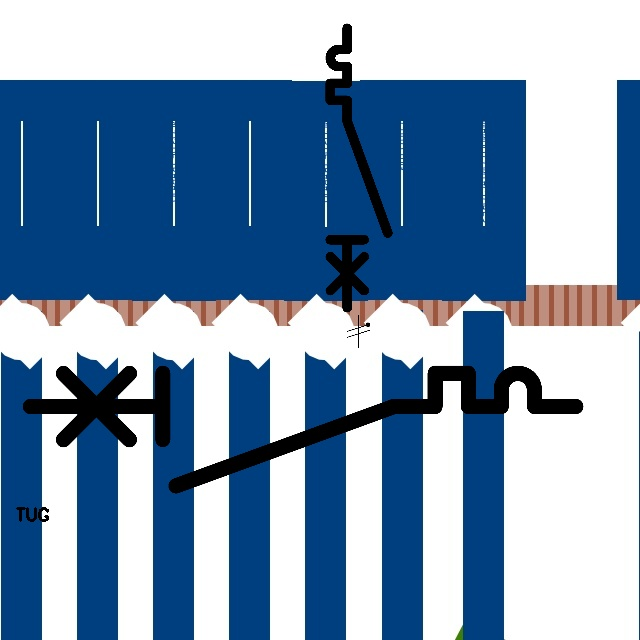interruptor_termomagnetico: (16, 359, 590, 499), (323, 21, 395, 315)
